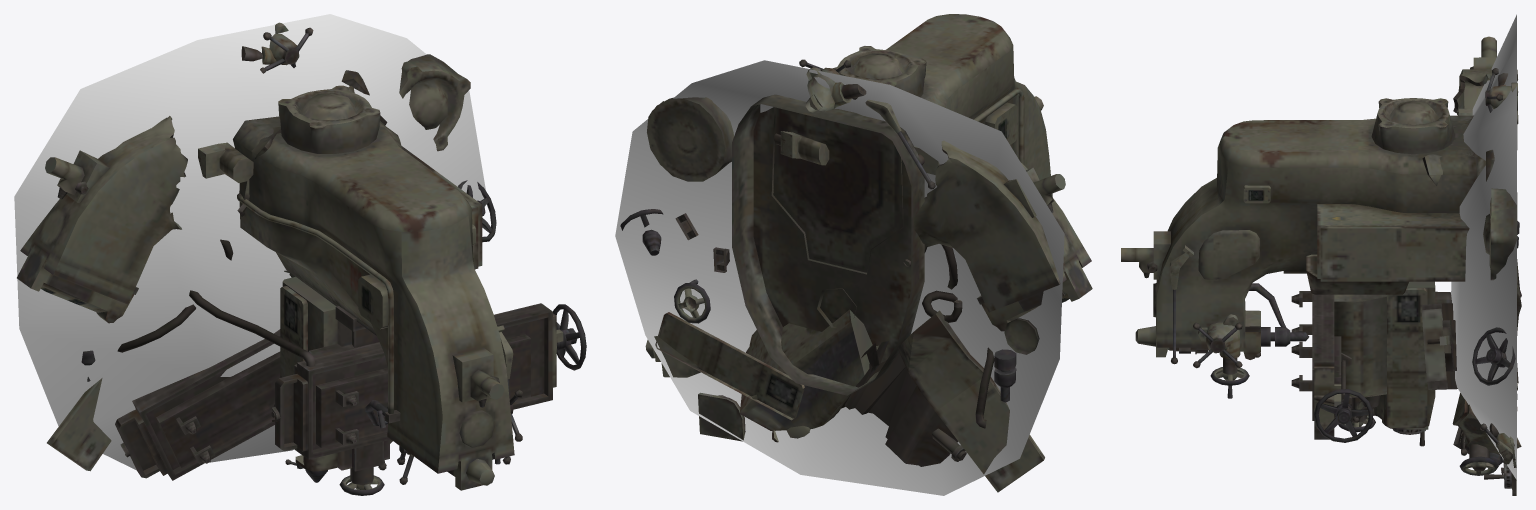
Rendered from env_114_05_MillingMachine_small.glb.
3 renders of one model, left to right at view 1: azimuth 30°, elevation 25°; view 2: azimuth 150°, elevation 25°; view 3: azimuth 270°, elevation 25°, orthographic. The views are drawn at different scales.
Parts seen in each view (by area): view 1: set_0_group_2, set_0_group_0, set_0_group_1; view 2: set_0_group_1, set_0_group_0, set_0_group_2; view 3: set_0_group_2, set_0_group_0, set_0_group_1.
Part boxes in pixels (x1=…): set_0_group_2: x1=189, y1=72, x2=586, y2=495; set_0_group_0: x1=14, y1=14, x2=485, y2=470; set_0_group_1: x1=17, y1=22, x2=496, y2=480; set_0_group_1: x1=620, y1=59, x2=1092, y2=492; set_0_group_0: x1=615, y1=60, x2=1064, y2=495; set_0_group_2: x1=735, y1=14, x2=1052, y2=387; set_0_group_2: x1=1121, y1=98, x2=1494, y2=446; set_0_group_0: x1=1451, y1=14, x2=1516, y2=480; set_0_group_1: x1=1421, y1=36, x2=1521, y2=495.
Bounding box in the file's own units: 2.53 × 2.2 × 2.09.
3 materials, 2 textured.
